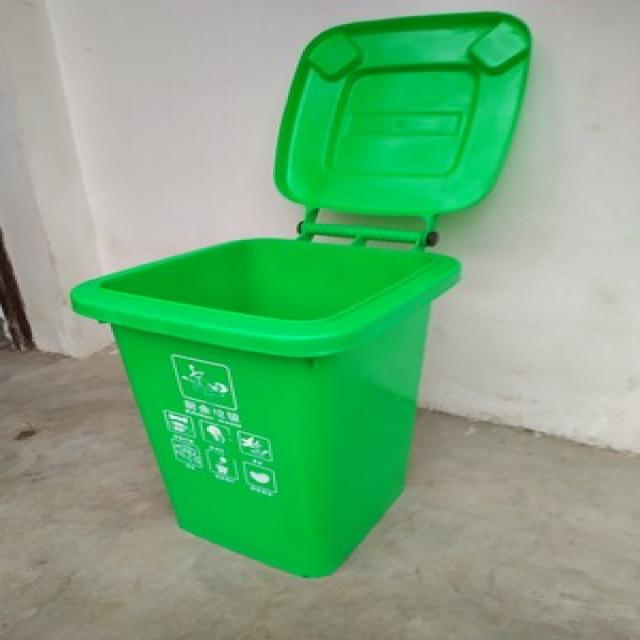ash bin: (66, 6, 533, 576)
